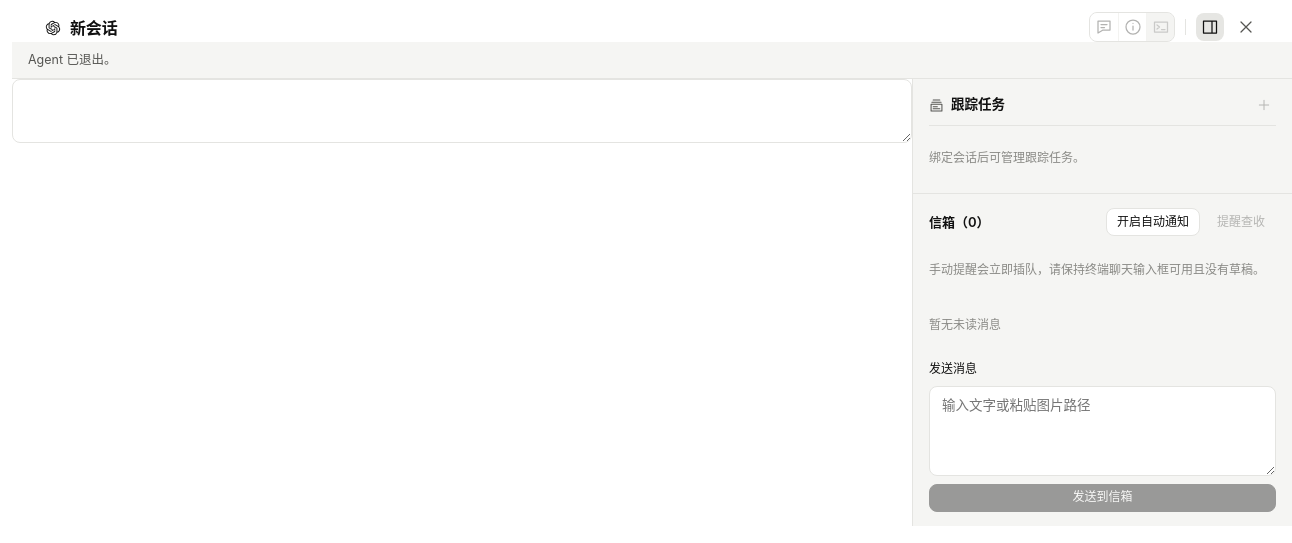
Scenario: disables reconnect until the terminal has a verified Session
Click the button named "终端 · 已退出" at (1160, 27), box [1146, 13, 1174, 41]
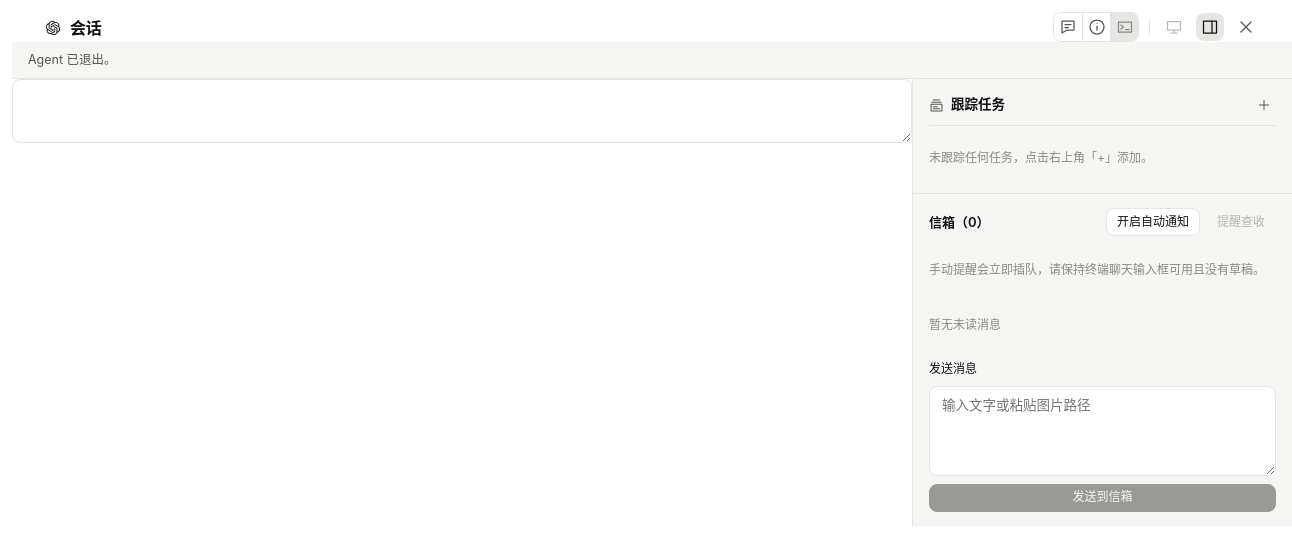
Expected: the button named "终端 · 已退出" is enabled, [1110, 13, 1138, 41]
